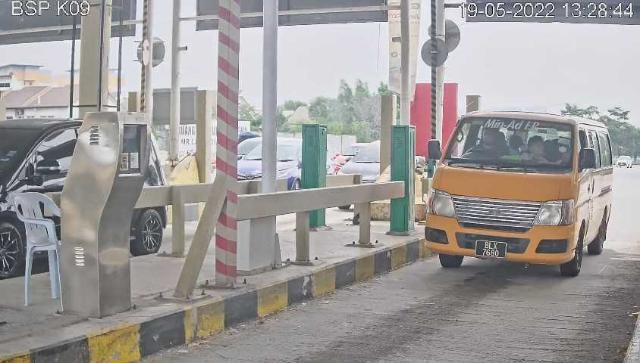License_Plate: (476, 240, 509, 263)
van: (426, 112, 614, 278)
